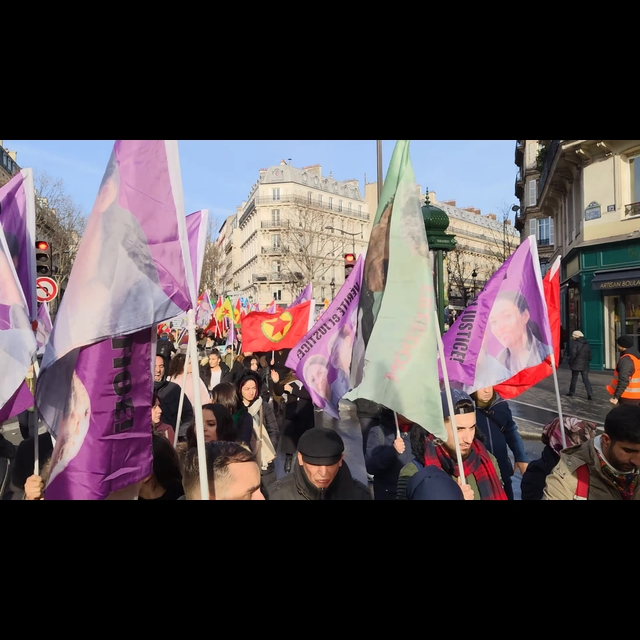PKK: (260, 314, 296, 341)
